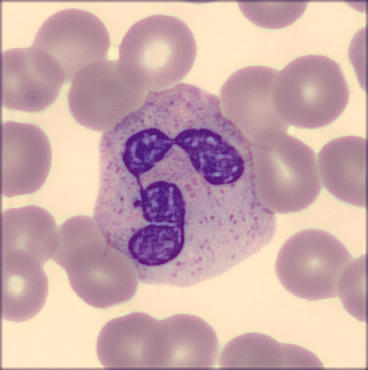WBC: (94, 76, 278, 288)
